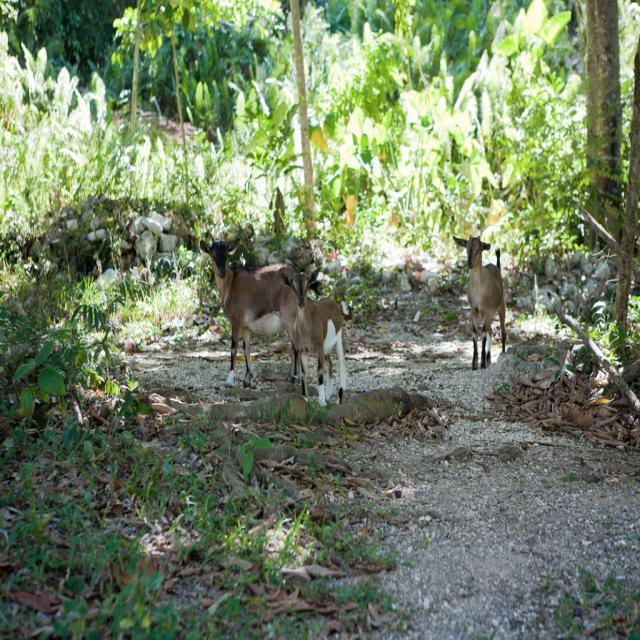Goat: (200, 229, 311, 389), (281, 266, 348, 407), (453, 233, 508, 370)
